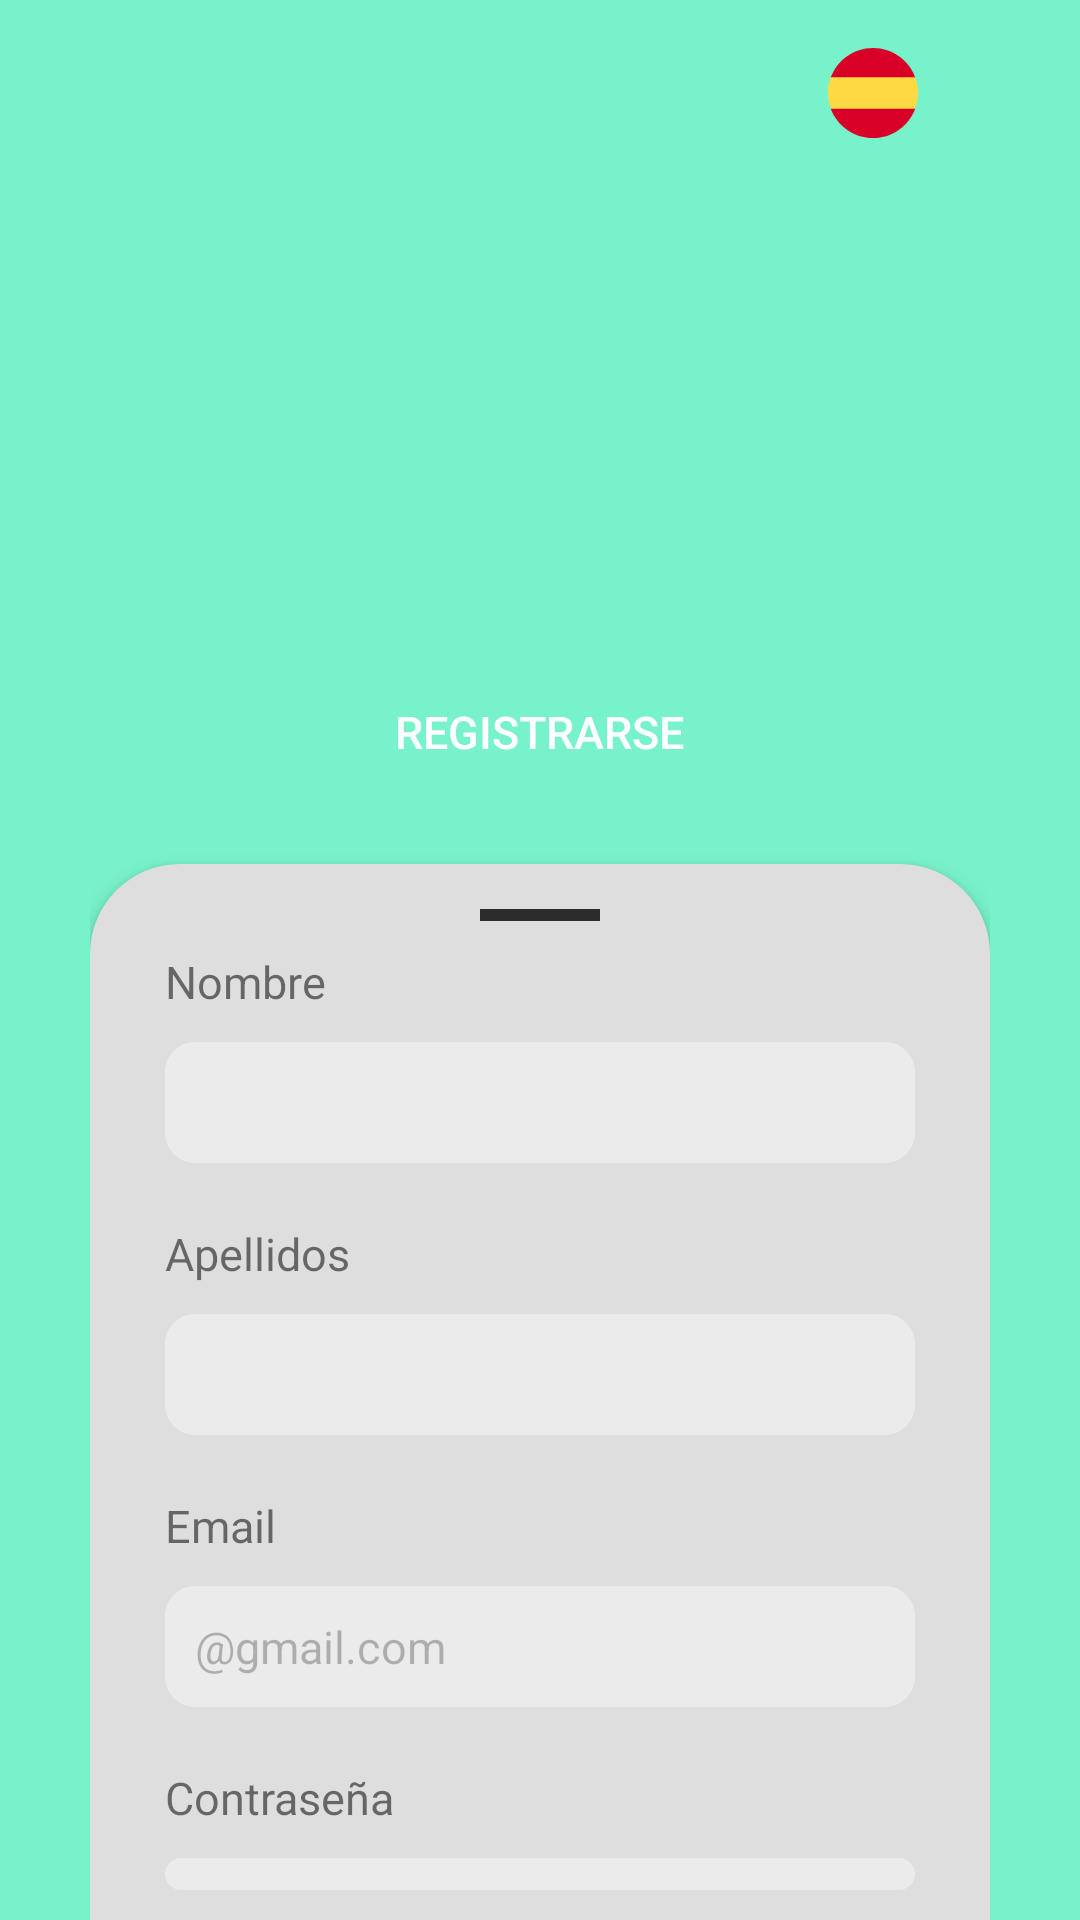

Icon click points for this 1080×1920 phone screenshot, format (x=x, y=y):
espanol: (x=873, y=93)
